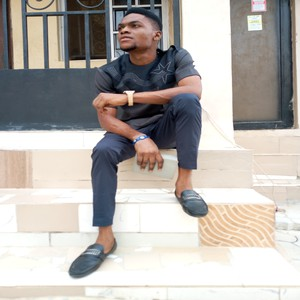Fulokoja_male_student: (98, 8, 207, 219)
